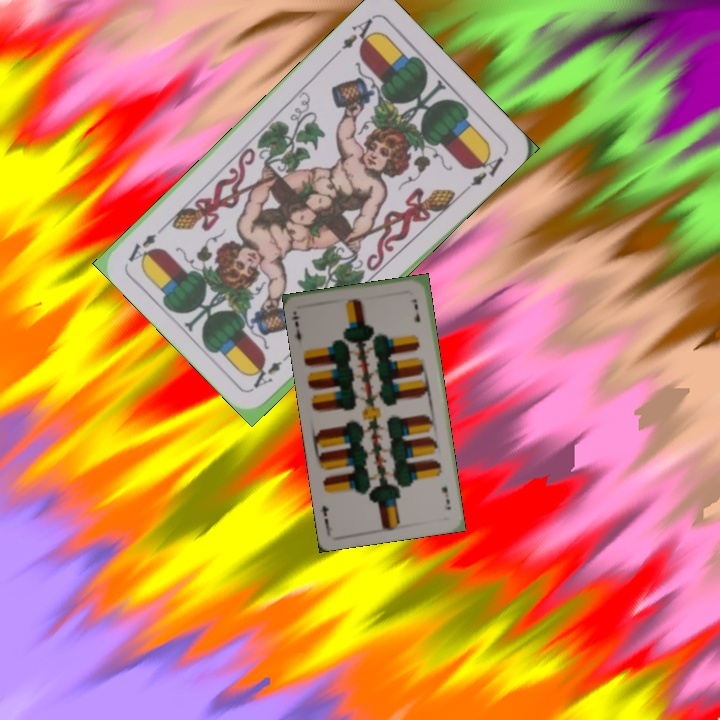E7: (288, 312, 304, 348), (437, 482, 453, 512)
EA: (248, 347, 296, 391), (337, 13, 380, 52)
